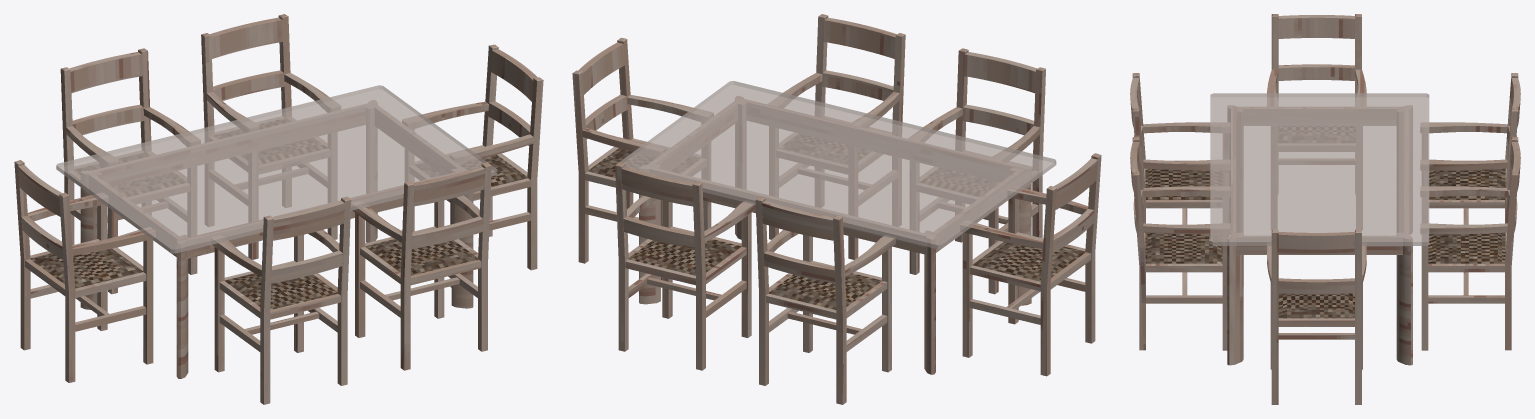
File: table_with_chairs_.fbx
3 renders of one model, left to right at view 1: azimuth 30°, elevation 25°; view 2: azimuth 150°, elevation 25°; view 3: azimuth 270°, elevation 25°, orthographic. The views are drawn at different scales.
Parts seen in each view (by area): view 1: Table Chairs; view 2: Table Chairs; view 3: Table Chairs.
Part boxes in pixels (left/top/right/bottom): Table Chairs: left=14, top=14, right=543, bottom=404; Table Chairs: left=572, top=14, right=1101, bottom=404; Table Chairs: left=1130, top=14, right=1520, bottom=404.
Size of the model in its own units: 325 by 121 by 243.
